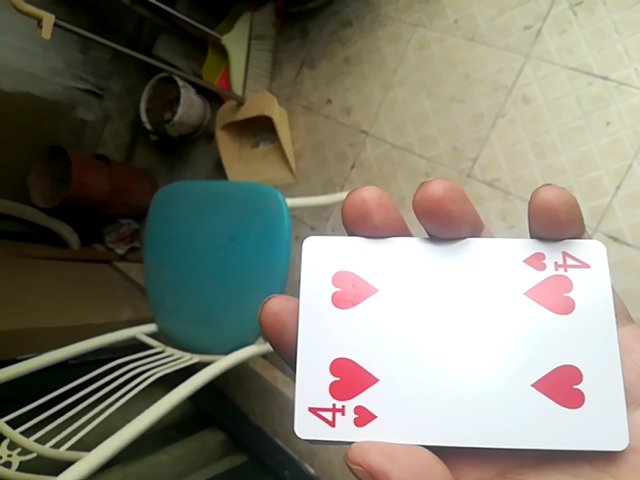hx 4: (293, 230, 637, 449)
